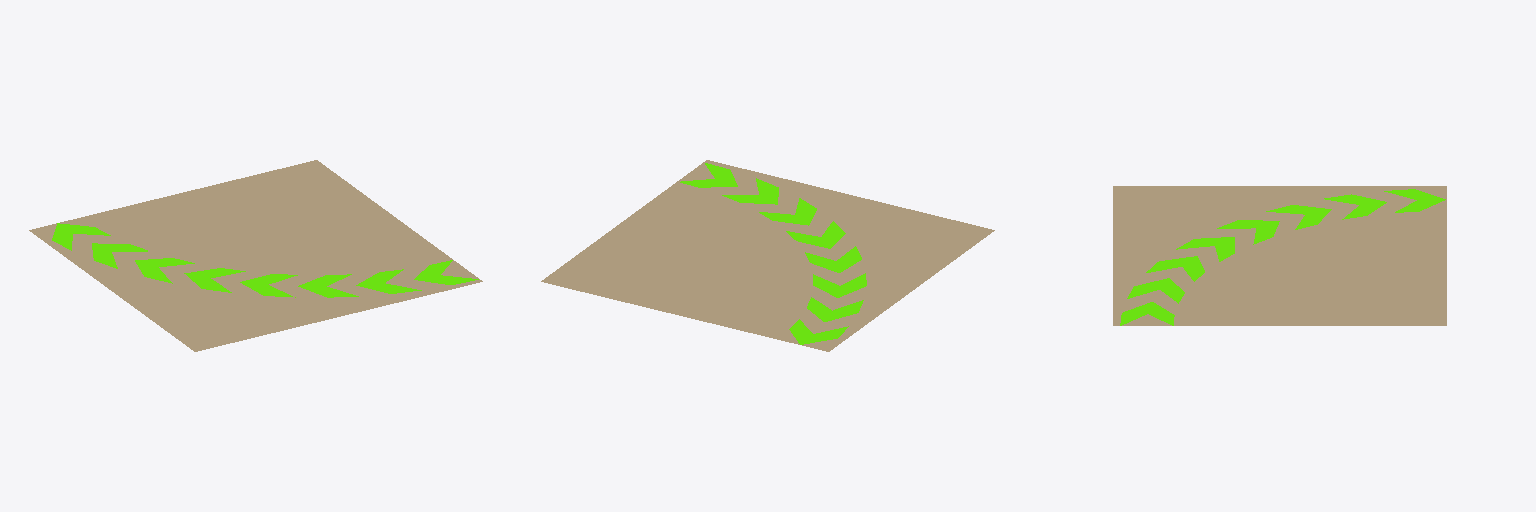
Rendered from Ground_Boost_Speed_Curve_5x5.obj.
The picture shows the model from 3 angles: view 1: azimuth 30°, elevation 25°; view 2: azimuth 150°, elevation 25°; view 3: azimuth 270°, elevation 25°; orthographic projection.
Parts seen in each view (by area): view 1: object1; view 2: object1; view 3: object1.
Part boxes in pixels (x1,y1,x2,y2): object1: (29, 160, 482, 351); object1: (541, 160, 994, 351); object1: (1113, 186, 1446, 325).
Size of the model in its own units: 5 by 0 by 5.